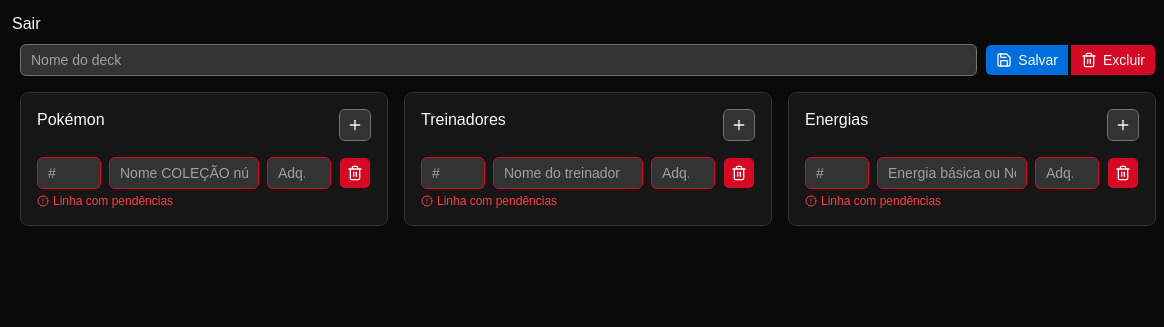
Test case: DeckEditor › shows the parser error inline in Pokémon for "Abra MEG 9999" and blocks Save
Type "Deck" into the field with placeholder "Nome do deck" at (499, 60), box [20,44,977,76]
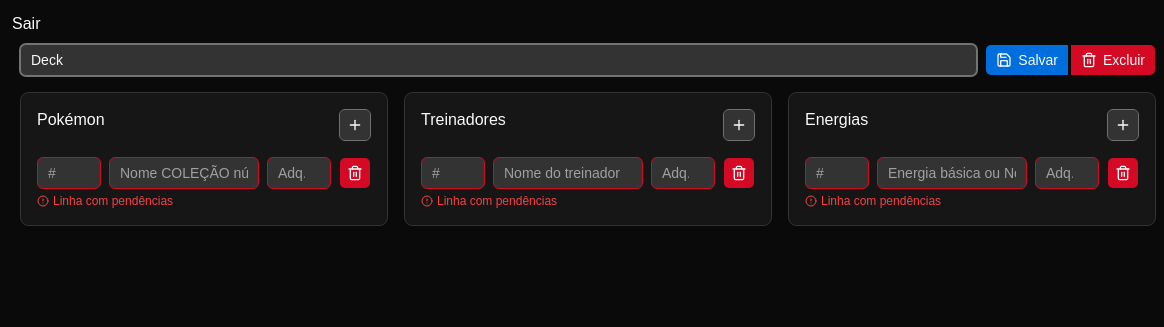
Click the button named "Adicionar carta" at (355, 125), box [339,109,371,141]
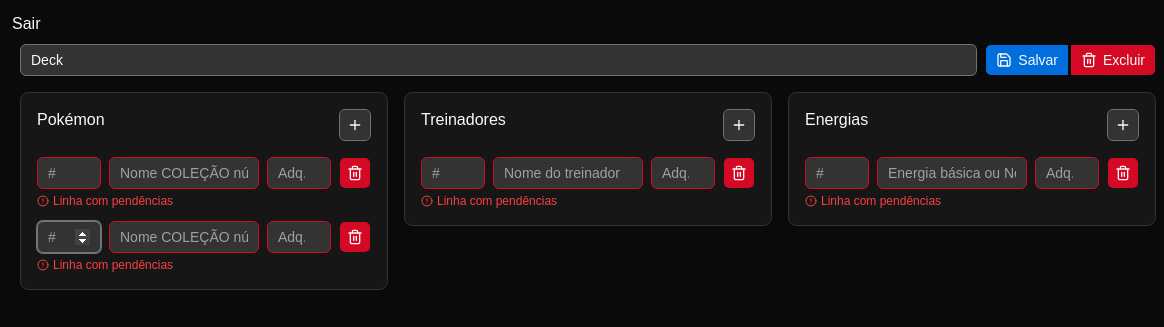
Type "1" into the number field named "Quantidade" at (69, 237), box [37,221,101,253]
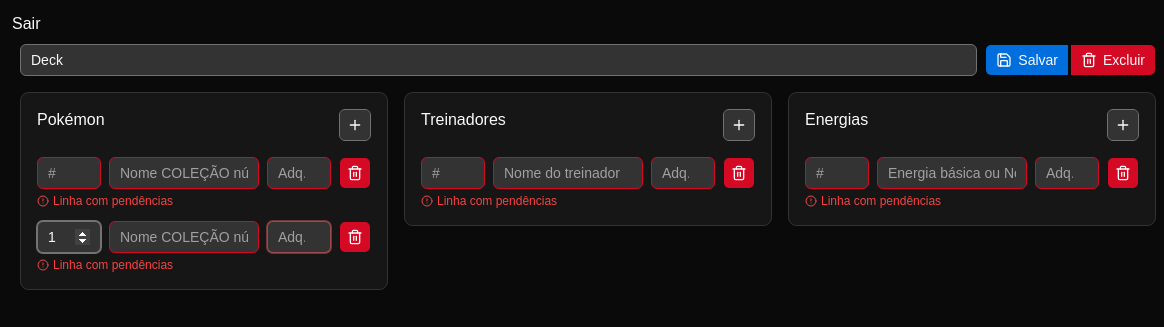
Type "Abra MEG 9999" into the dropdown named "Carta" at (184, 237), box [109,221,259,253]
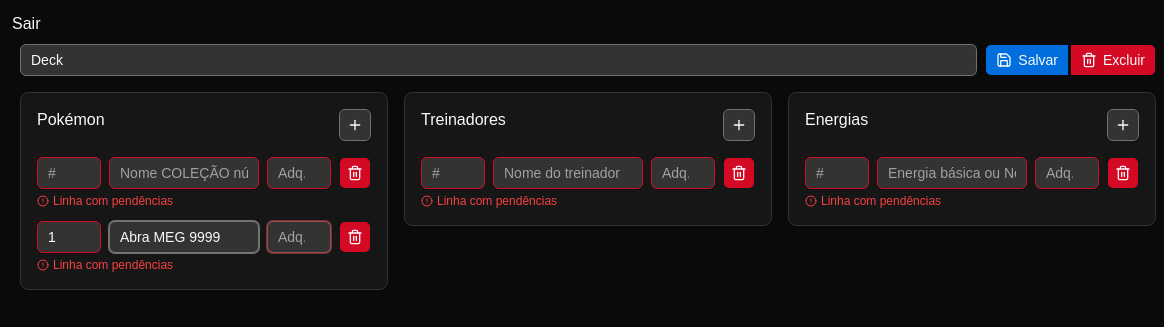
Type "1" into the number field named "Adquirido" at (299, 237), box [267,221,331,253]
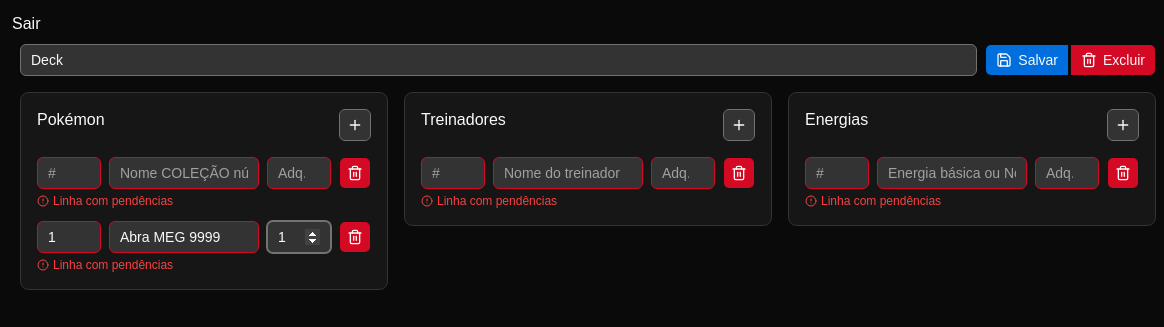
Click the button with aria-label "Salvar deck" at (1027, 60), box [985,44,1069,76]
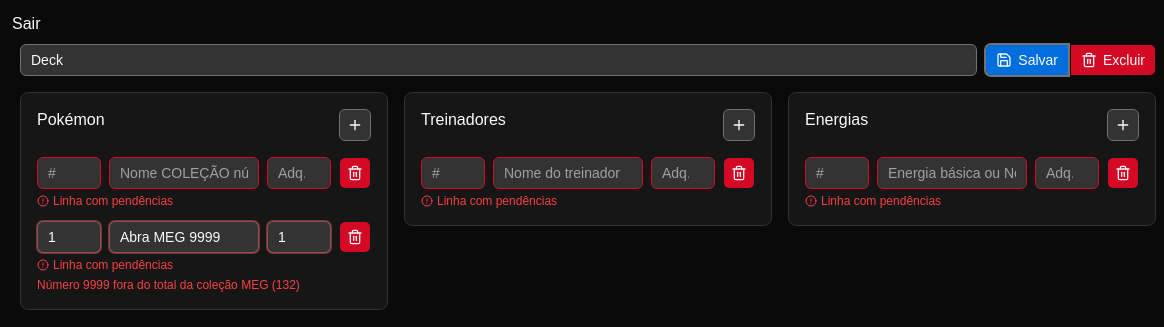
Check: the message shows "fora do total", box [37,278,300,292]
